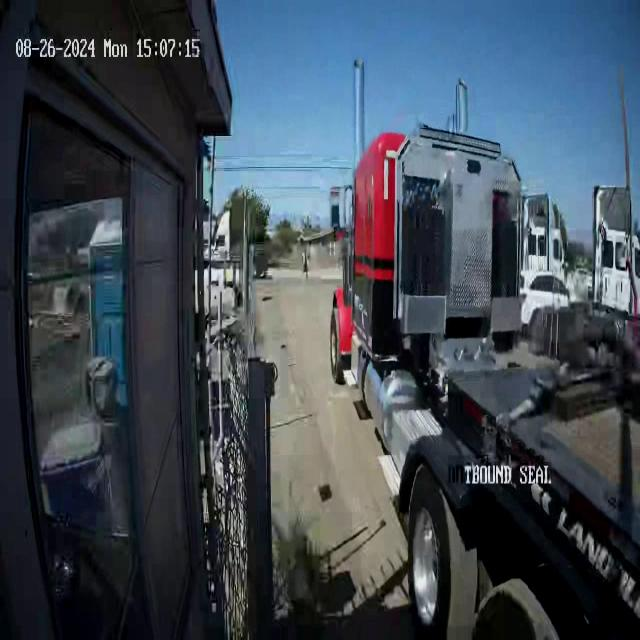BOBTAIL: (326, 56, 638, 636)
